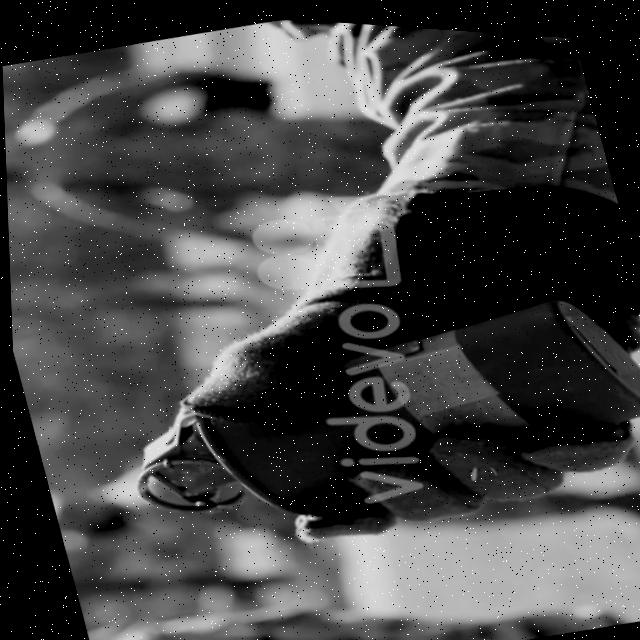grenade: (73, 192, 640, 619)
